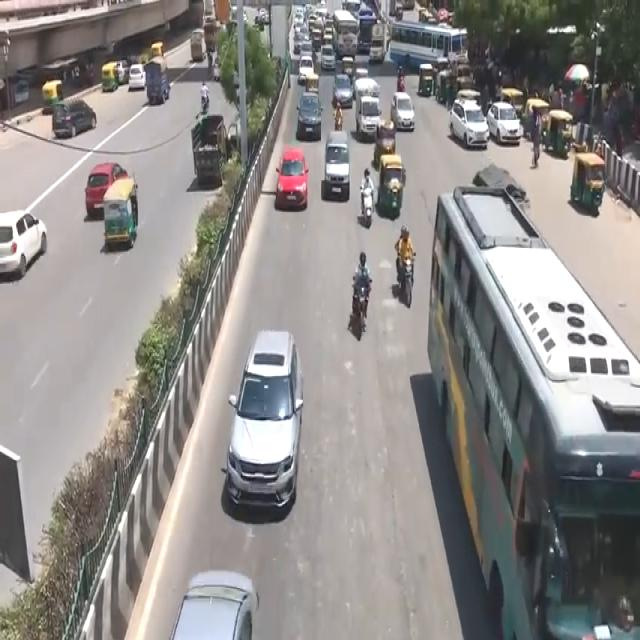BUS: (423, 190, 639, 640), (390, 19, 468, 70), (334, 12, 360, 59)
MOTORCYCLE: (352, 282, 369, 342)
